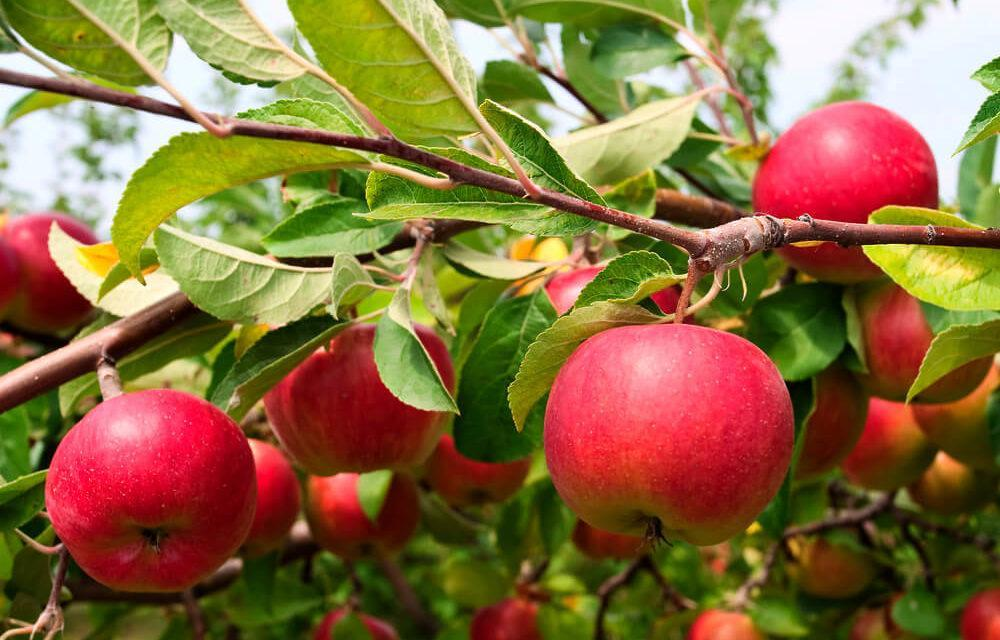apple: (541, 322, 798, 559), (46, 383, 261, 590), (751, 101, 940, 272), (261, 322, 461, 469), (861, 283, 995, 406), (1, 210, 111, 343)
